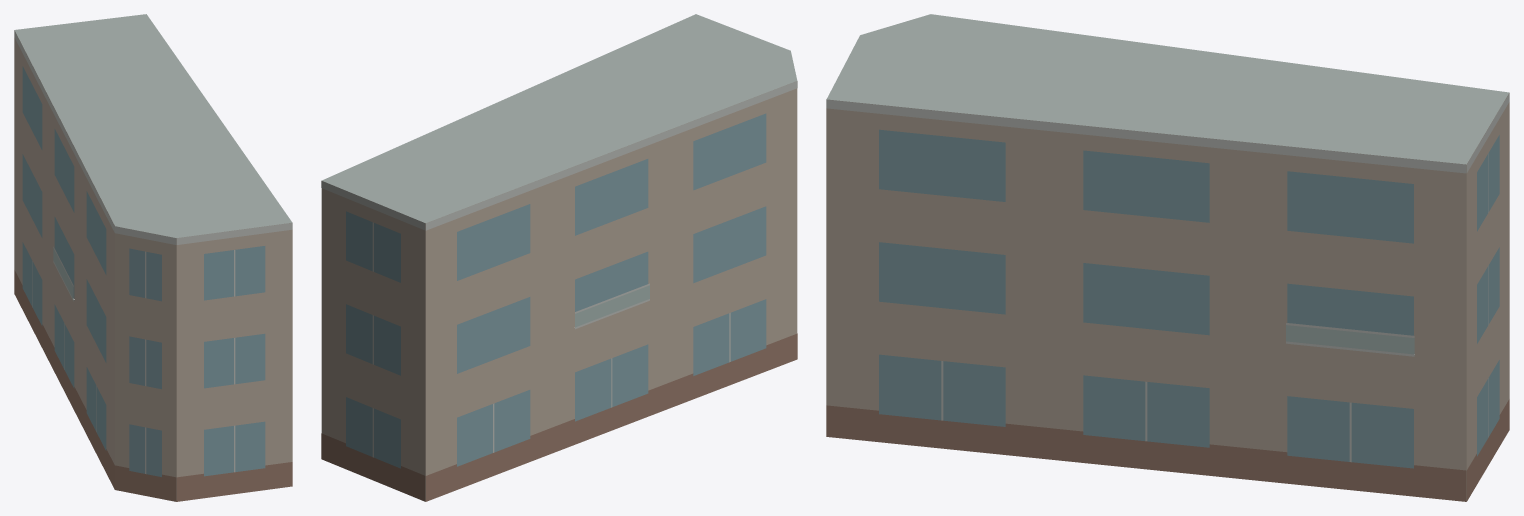
Rendered from survey-upis-32544072.glb.
3 views of the same model, side by side, from view 1: azimuth 30°, elevation 25°; view 2: azimuth 150°, elevation 25°; view 3: azimuth 270°, elevation 25° (orthographic). The views are drawn at different scales.
Visible parts, largest first — view 1: survey-upis-32544072.tmp; view 2: survey-upis-32544072.tmp; view 3: survey-upis-32544072.tmp.
Part boxes in pixels (left/top/right/bottom): survey-upis-32544072.tmp: left=14, top=14, right=292, bottom=501; survey-upis-32544072.tmp: left=321, top=14, right=797, bottom=501; survey-upis-32544072.tmp: left=826, top=14, right=1509, bottom=501.
Size of the model in its own units: 8.76 by 9.15 by 16.8.
